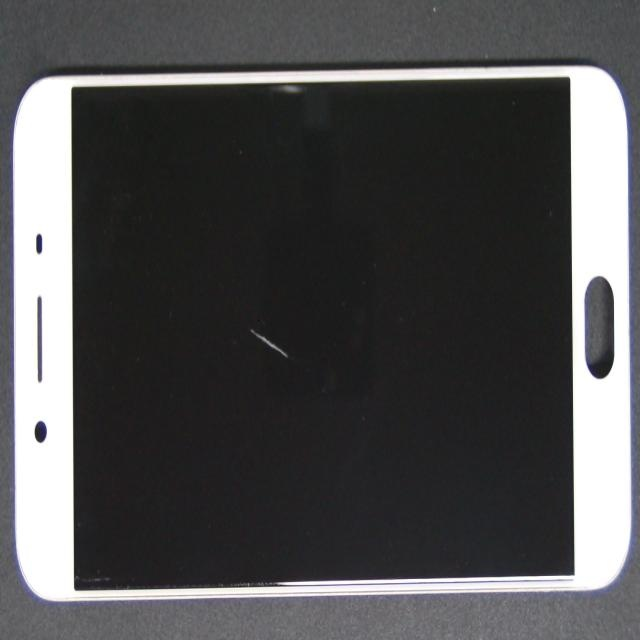scratch: (139, 186, 420, 559)
